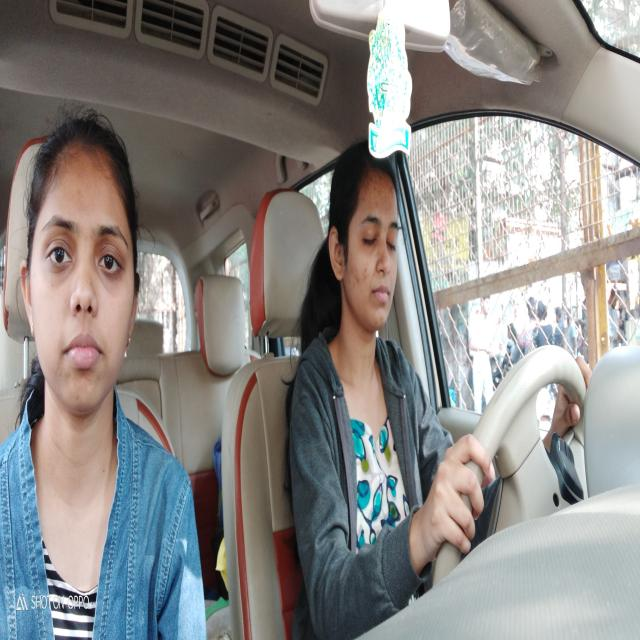drowsy: (322, 140, 404, 341)
person: (16, 96, 147, 432)
